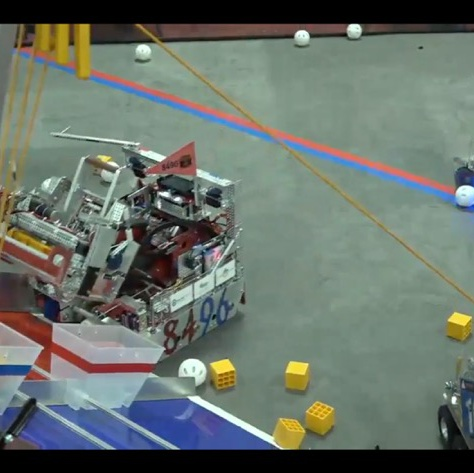robot: (0, 138, 246, 358), (435, 354, 474, 453)
